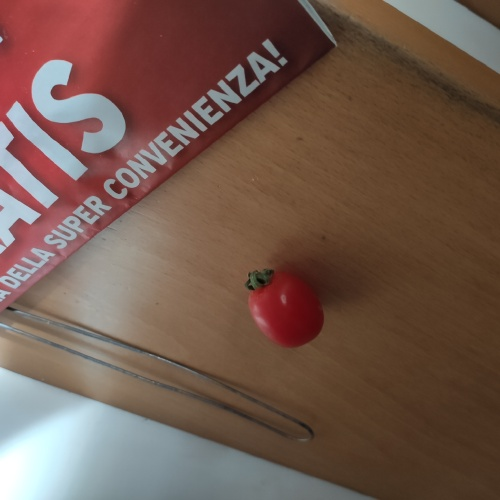pomodoro: (243, 264, 328, 350)
